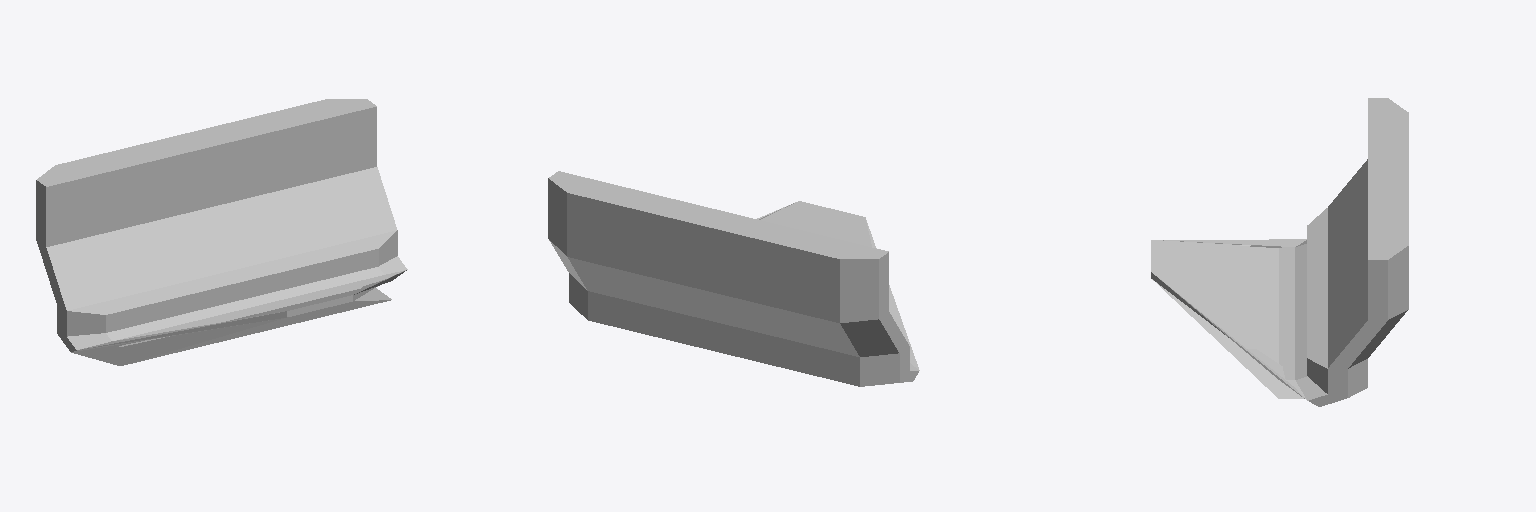
Rendered from Anchor_ClampA.obj.
3 views of the same model, side by side, from view 1: azimuth 30°, elevation 25°; view 2: azimuth 150°, elevation 25°; view 3: azimuth 270°, elevation 25° (orthographic).
Parts seen in each view (by area): view 1: m_BF_Anchor_Sky_222_Clamp_A_Instance.001; view 2: m_BF_Anchor_Sky_222_Clamp_A_Instance.001; view 3: m_BF_Anchor_Sky_222_Clamp_A_Instance.001.
Part boxes in pixels (bbox=[...]): m_BF_Anchor_Sky_222_Clamp_A_Instance.001: bbox=[36, 99, 407, 365]; m_BF_Anchor_Sky_222_Clamp_A_Instance.001: bbox=[548, 171, 919, 386]; m_BF_Anchor_Sky_222_Clamp_A_Instance.001: bbox=[1151, 98, 1408, 406].
Size of the model in its own units: 2.7 by 1.2 by 1.82.